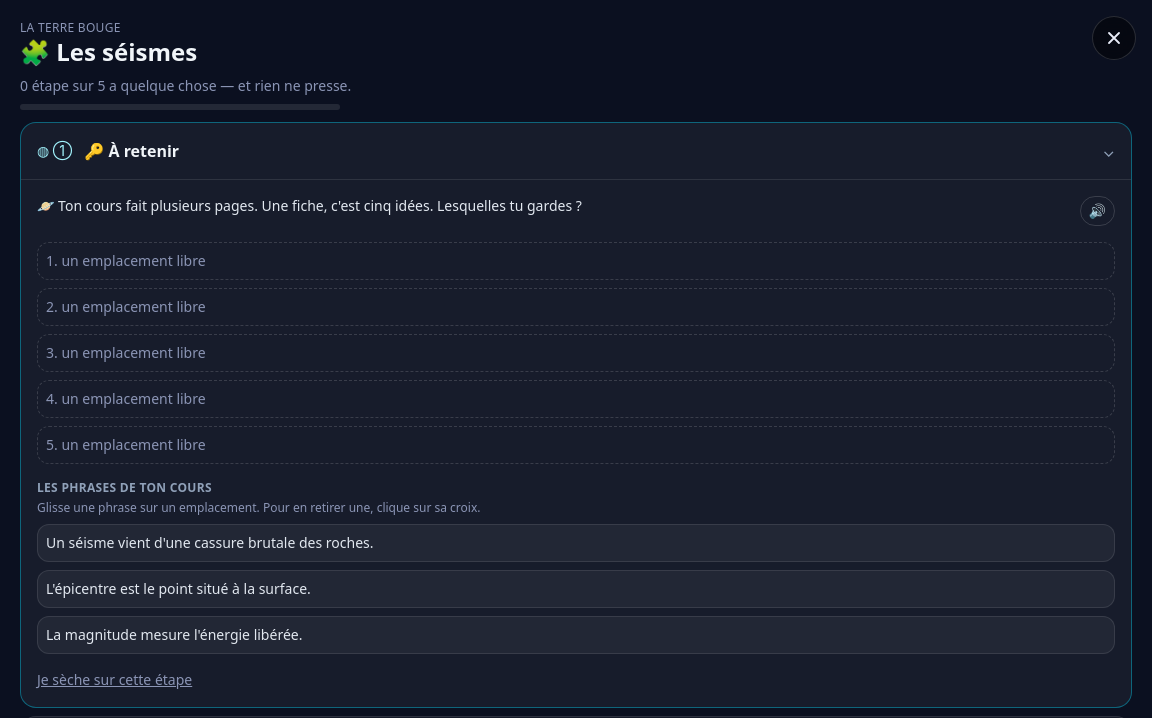
AtelierPage › ne rend QUE des réussites — aucune remarque en slice 1
The width and height of the screenshot is (1152, 718).
Press the mouse on the button "L'épicentre est le point situé à la surface." at (178, 588), box [37,570,1115,608]
(page scrolled)
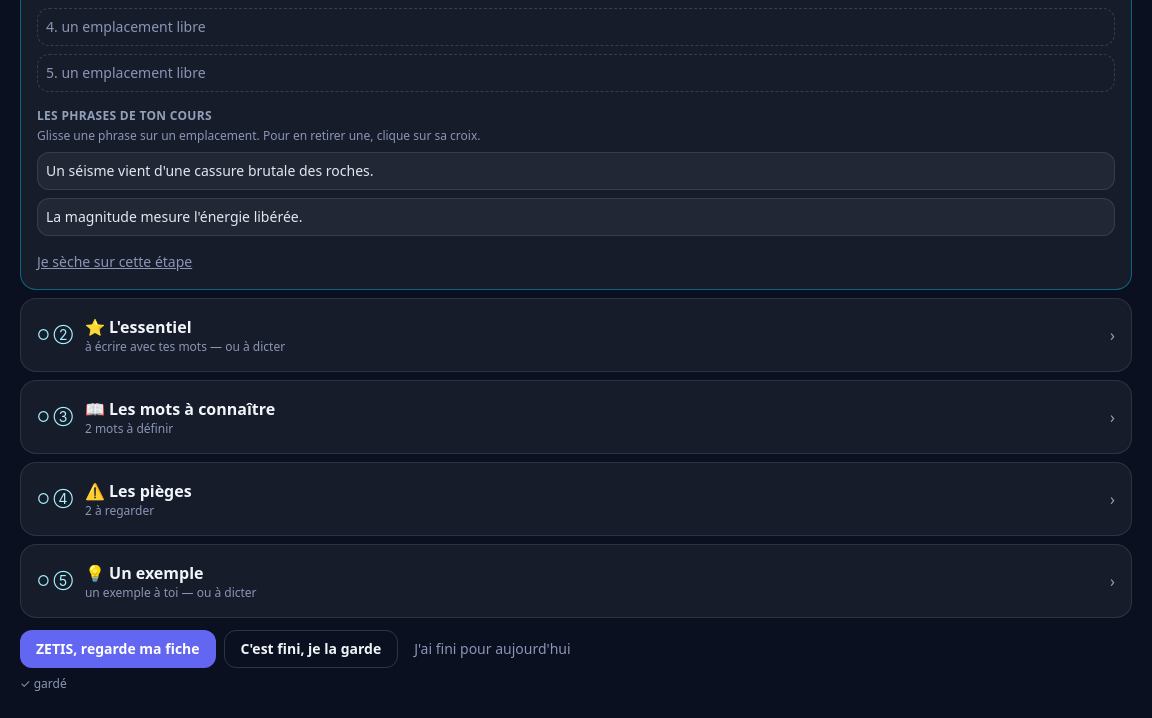
Click the button "ZETIS, regarde ma fiche" at (118, 649), box [20,630,216,668]
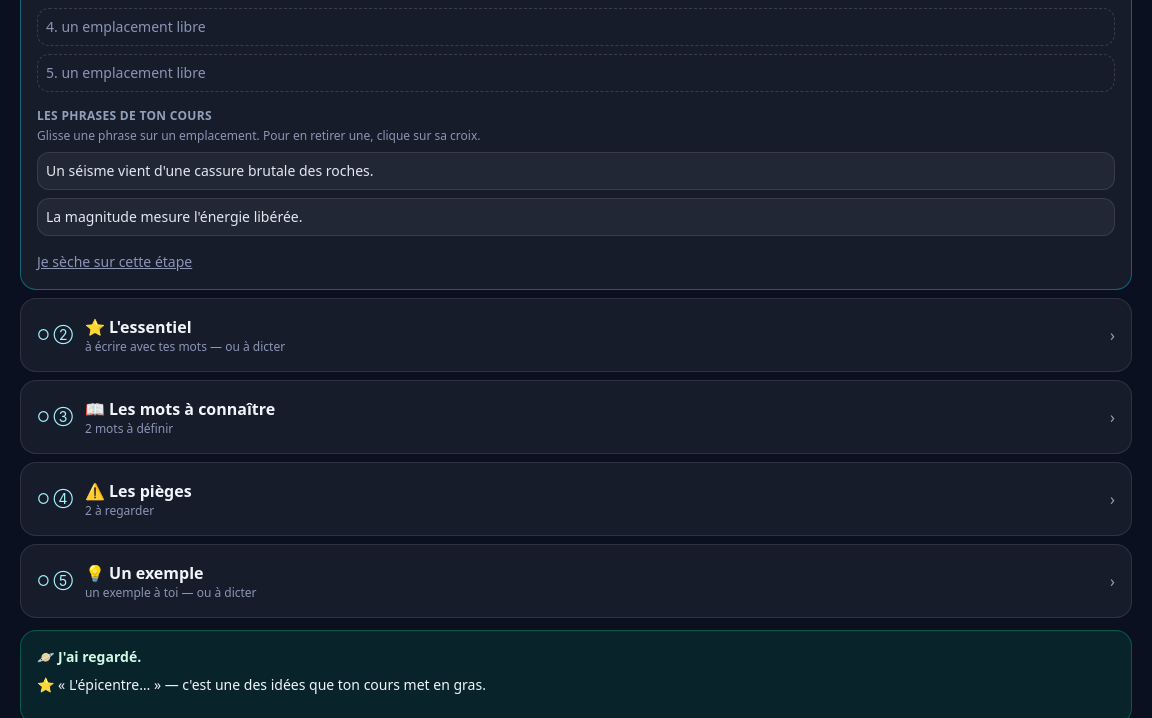
Check: the list item "met en gras" is shown, box [58,675,486,694]
